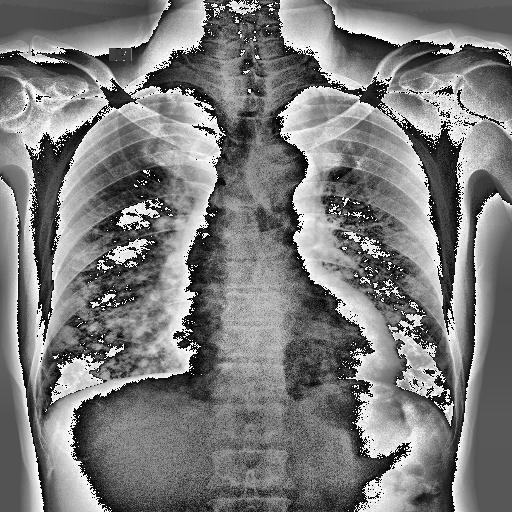0- Aortic enlargement: (254, 142, 320, 208), (247, 140, 315, 200), (258, 146, 319, 204)
13- Pulmonary fibrosis: (42, 247, 184, 410), (345, 272, 453, 417)
3- Cardiomegaly: (169, 296, 399, 380), (168, 326, 410, 388)
6- Infiltration: (42, 247, 184, 410), (345, 272, 453, 417)
8- Nodule-Mass: (30, 206, 177, 404), (336, 224, 458, 418), (58, 324, 82, 344), (349, 240, 364, 250), (435, 361, 447, 370), (342, 270, 354, 279), (405, 306, 416, 314), (138, 358, 149, 366), (106, 320, 116, 328), (434, 378, 443, 386)
